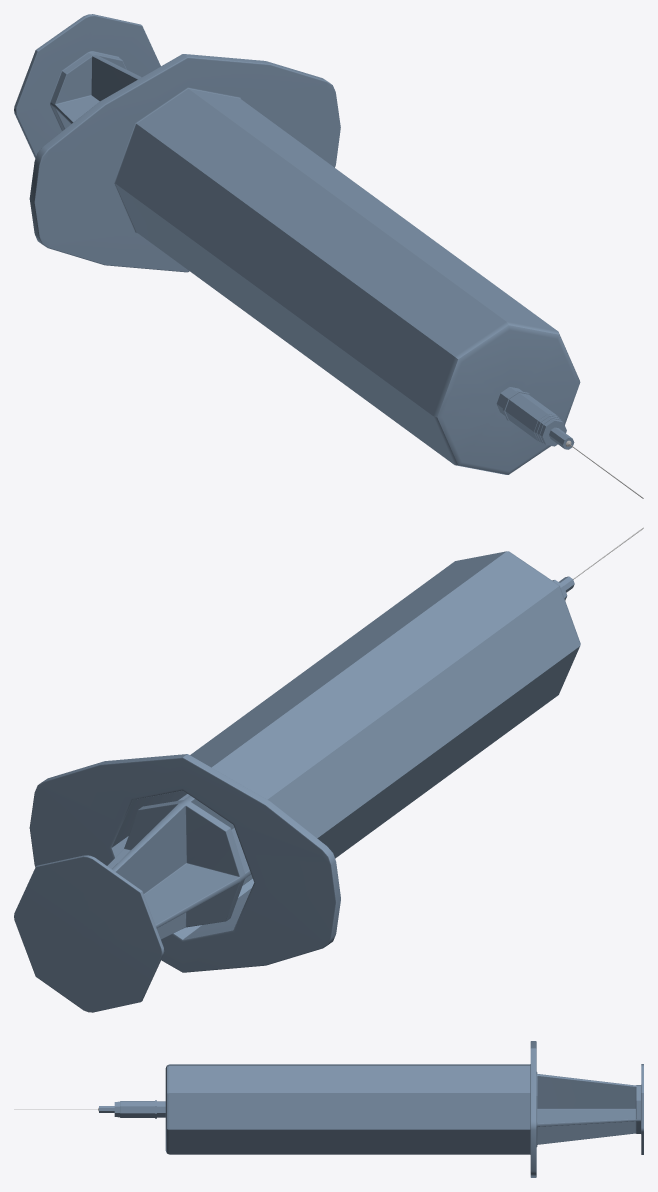
File: seringue.fbx
The picture shows the model from 3 angles, top to bottom: view 1: azimuth 30°, elevation 25°; view 2: azimuth 150°, elevation 25°; view 3: azimuth 270°, elevation 25°; orthographic projection. The views are drawn at different scales.
Visible parts, largest first — view 1: seringue_tube, poussoir, protection_devant; view 2: seringue_tube, poussoir; view 3: seringue_tube, poussoir, protection_devant.
Part boxes in pixels (x1,y1,x2,y2): seringue_tube: (29,54,580,474); poussoir: (14,14,160,158); protection_devant: (502,390,574,449); seringue_tube: (29,551,580,972); poussoir: (14,795,252,1012); seringue_tube: (157,1041,536,1177); poussoir: (536,1064,643,1154); protection_devant: (99,1100,156,1118).
Size of the model in its own units: 1.49 by 0.9981 by 4.66.
